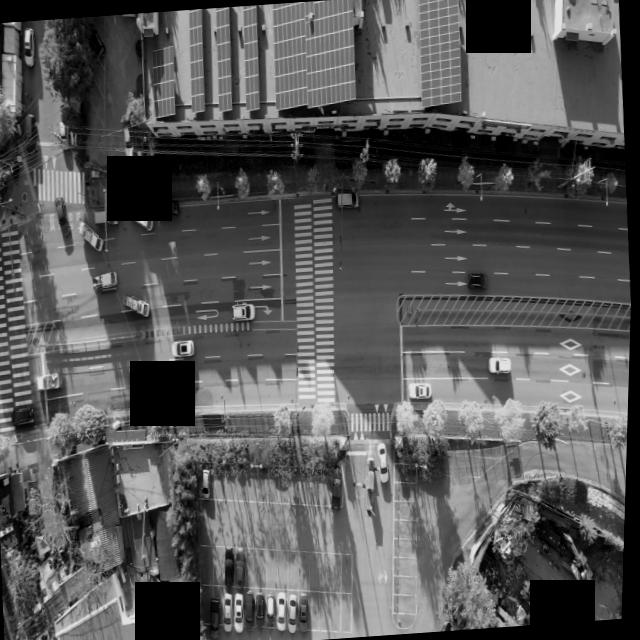car: (330, 466, 347, 511), (23, 112, 39, 154), (86, 28, 105, 62), (53, 197, 69, 235), (20, 27, 35, 66), (223, 548, 237, 588), (377, 442, 391, 482), (244, 590, 258, 629), (90, 206, 117, 226), (278, 590, 291, 630), (288, 592, 301, 631), (211, 595, 224, 634), (487, 356, 511, 376), (13, 404, 36, 424), (236, 592, 248, 630), (237, 548, 249, 586), (223, 593, 235, 631), (257, 590, 269, 628), (298, 598, 311, 632), (334, 192, 358, 210), (121, 125, 134, 158), (171, 340, 194, 358), (232, 304, 255, 322), (409, 381, 432, 399), (467, 271, 489, 289), (201, 469, 213, 500), (268, 593, 279, 625), (129, 365, 149, 381), (58, 120, 69, 146)
small_truck: (78, 218, 105, 254), (128, 204, 154, 233), (123, 292, 150, 318), (26, 477, 41, 517), (37, 370, 63, 390), (93, 271, 118, 291), (156, 201, 178, 219)
